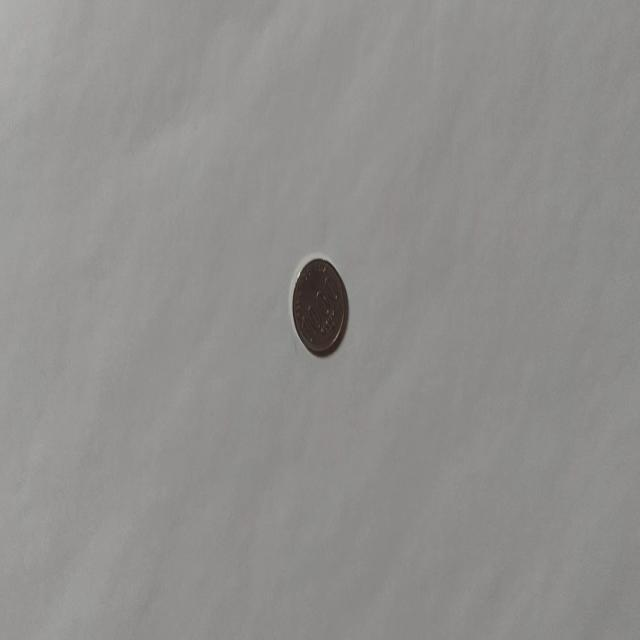seribu rupiah koin: (289, 255, 348, 356)
